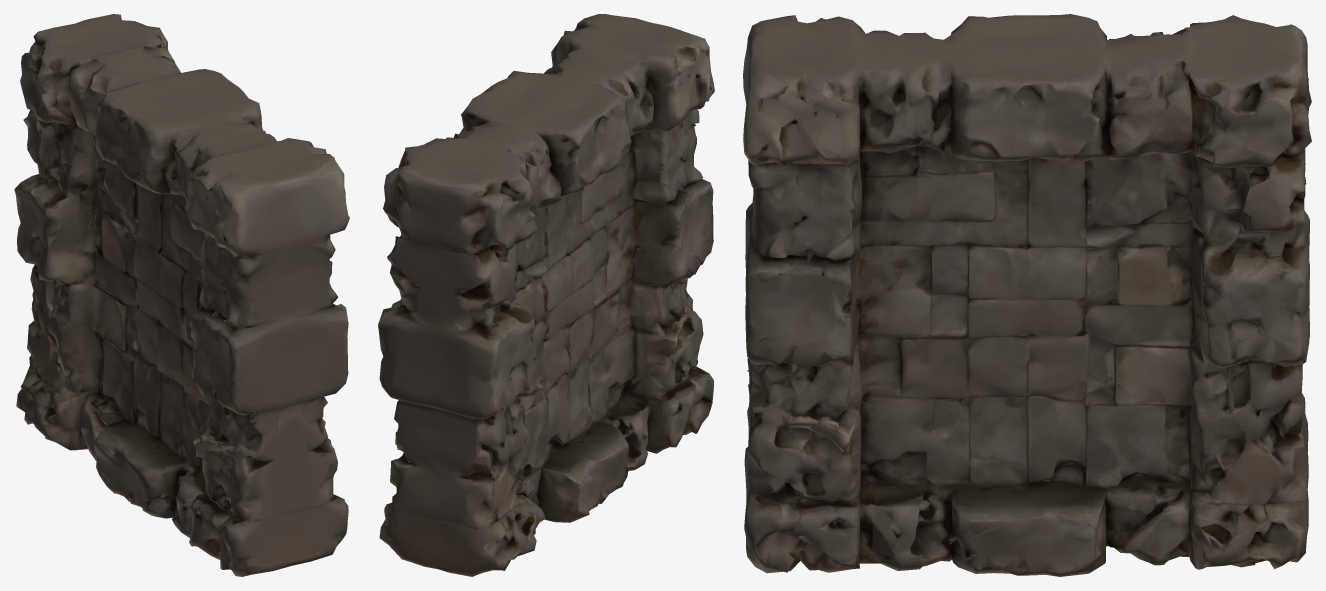
The model's file is v2_wall.glb.
The picture shows the model from 3 angles, left to right: view 1: azimuth 30°, elevation 25°; view 2: azimuth 150°, elevation 25°; view 3: azimuth 270°, elevation 25°; orthographic projection. The views are drawn at different scales.
Parts seen in each view (by area): view 1: tripo_node_9291be30-ecfa-404c-adfe-ee176a6b0e5b; view 2: tripo_node_9291be30-ecfa-404c-adfe-ee176a6b0e5b; view 3: tripo_node_9291be30-ecfa-404c-adfe-ee176a6b0e5b.
Boxes of the visible parts, box(x1,y1,x2,y2) form: tripo_node_9291be30-ecfa-404c-adfe-ee176a6b0e5b: box(14, 14, 349, 576); tripo_node_9291be30-ecfa-404c-adfe-ee176a6b0e5b: box(378, 14, 714, 576); tripo_node_9291be30-ecfa-404c-adfe-ee176a6b0e5b: box(743, 14, 1311, 576).
Bounding box in the file's own units: 0.3367 × 0.973 × 1.
1 material, 1 textured.
